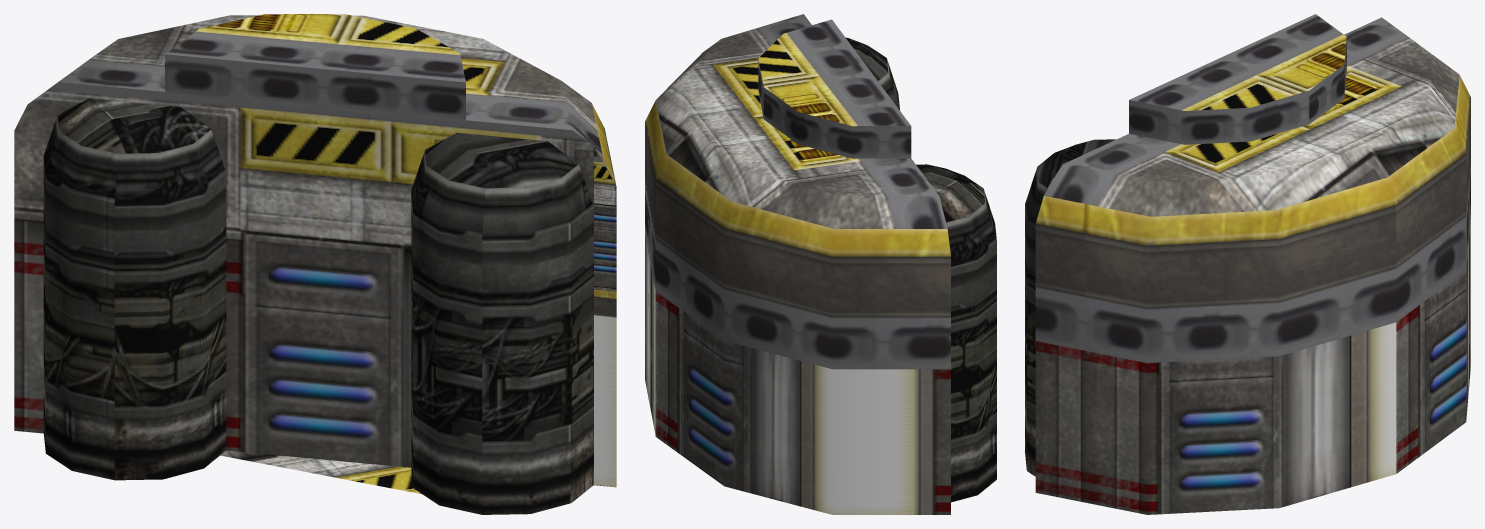
Rendered from prop_gas_can.gltf.
3 views of the same model, side by side, from view 1: azimuth 30°, elevation 25°; view 2: azimuth 150°, elevation 25°; view 3: azimuth 270°, elevation 25° (orthographic). The views are drawn at different scales.
Visible parts, largest first — view 1: polymsh1247; view 2: polymsh1247; view 3: polymsh1247.
Boxes of the visible parts, left/top/right/bottom form: polymsh1247: left=14, top=14, right=616, bottom=514; polymsh1247: left=645, top=14, right=996, bottom=514; polymsh1247: left=1025, top=14, right=1470, bottom=514.
Bounding box in the file's own units: 5.48 × 4.61 × 5.32.
Materials: 2 (2 with a texture image).
